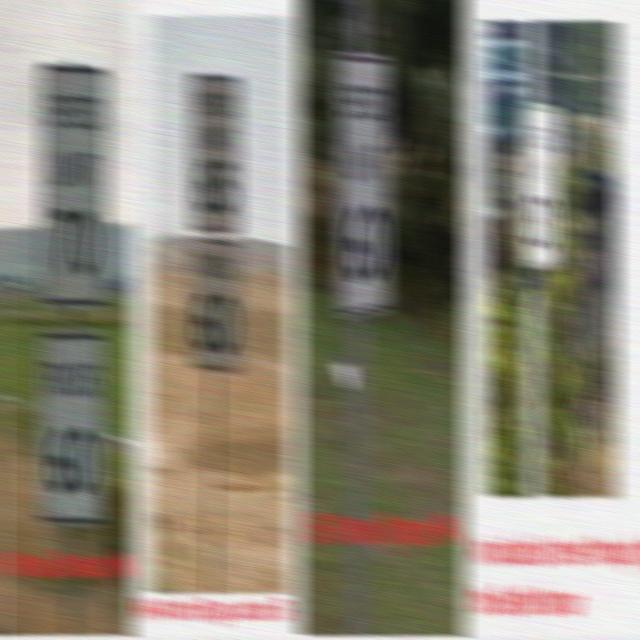speedLimit30: (522, 98, 563, 264)
speedLimit60: (333, 50, 392, 317)
speedLimit65: (188, 67, 241, 229)
speedLimit70: (37, 68, 109, 298)
